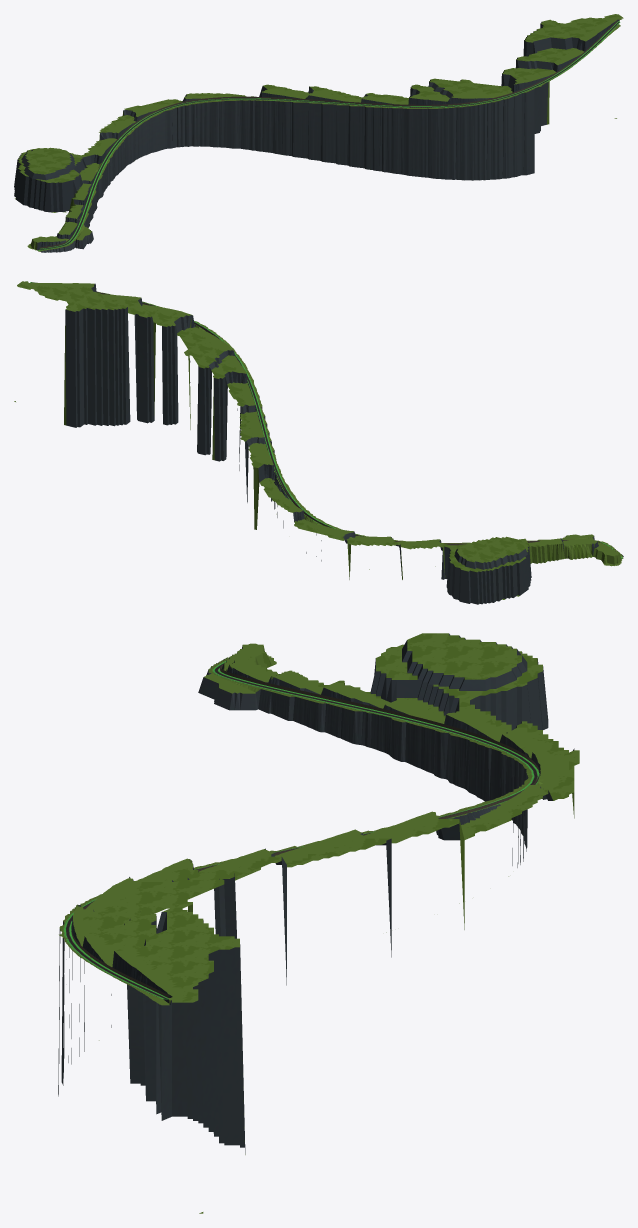
Rendered from Rally_1.glb.
3 renders of one model, top to bottom at view 1: azimuth 30°, elevation 25°; view 2: azimuth 150°, elevation 25°; view 3: azimuth 270°, elevation 25°, orthographic. The views are drawn at different scales.
Visible parts, largest first — view 1: Rock, Plane, Road, Plane.002, Track; view 2: Rock, Plane, Road; view 3: Rock, Plane, Plane.002, Road, Track.
Boxes of the visible parts, left/top/right/bottom form: Rock: left=14, top=19, right=618, bottom=252; Plane: left=15, top=14, right=623, bottom=251; Road: left=38, top=21, right=620, bottom=250; Plane.002: left=39, top=20, right=617, bottom=248; Track: left=37, top=22, right=619, bottom=250; Rock: left=65, top=283, right=623, bottom=604; Plane: left=14, top=281, right=623, bottom=599; Road: left=30, top=282, right=622, bottom=558; Rock: left=58, top=633, right=574, bottom=1152; Plane: left=59, top=633, right=579, bottom=1213; Plane.002: left=71, top=664, right=539, bottom=997; Road: left=63, top=660, right=539, bottom=999; Track: left=66, top=663, right=537, bottom=998.
Bounding box in the file's own units: 1951 × 344 × 768.
Materials: 6 (6 with a texture image).
